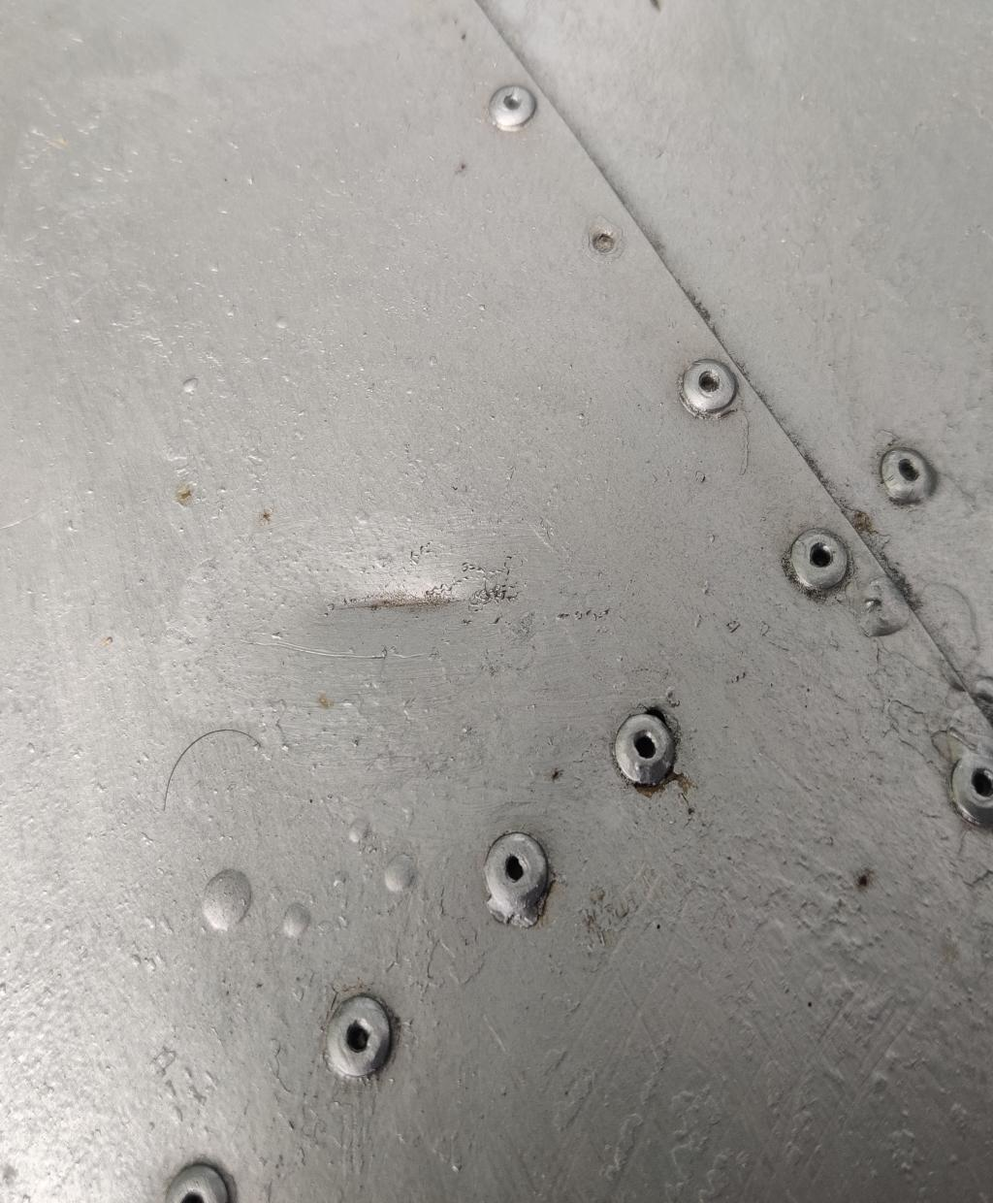dent: (397, 333, 622, 650)
